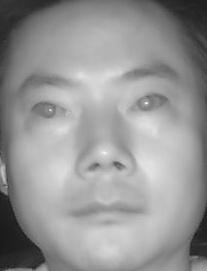eye: (24, 98, 74, 125), (130, 90, 173, 115)
mouth: (67, 187, 143, 231)
